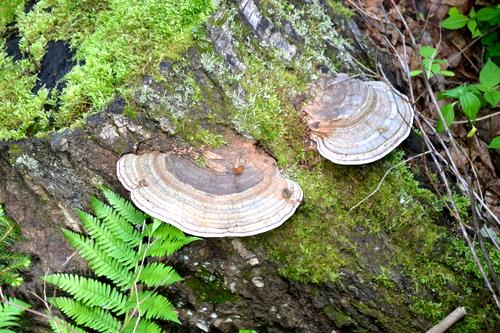Ganoderma - Fruit Body: (117, 119, 302, 239), (307, 79, 415, 165)
